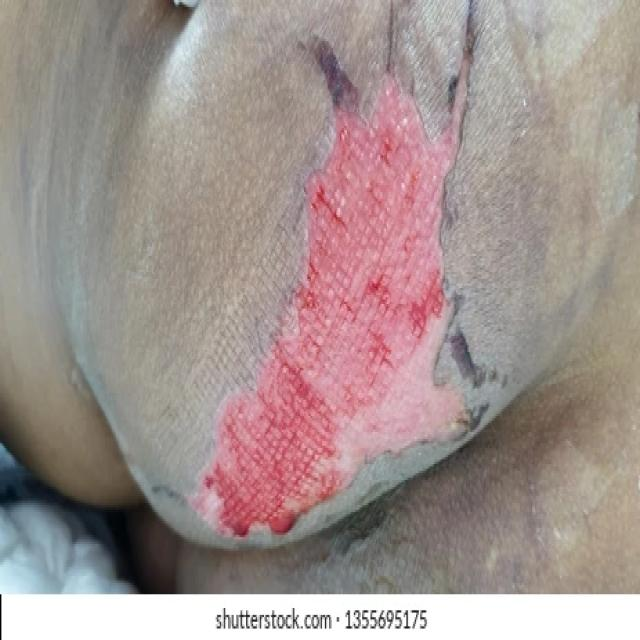stage-2: (207, 57, 470, 545)
